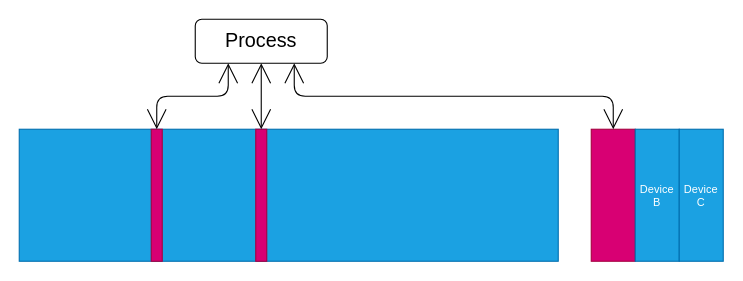
The diagram is 743 pixels wide and 281 high, and some of its shapes have lost their labels. Each missing label, with the box of its shape:
Device A: (590, 128, 635, 261)
Physical Memory: (18, 128, 558, 261)
